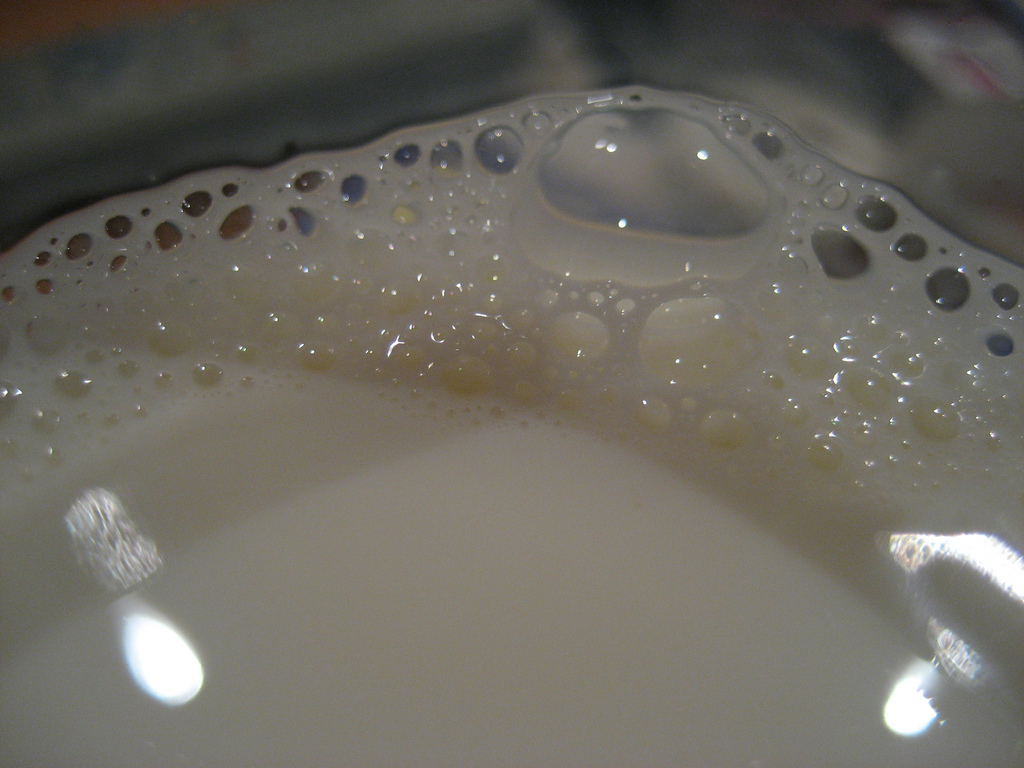glass of milk: (27, 78, 1024, 705)
